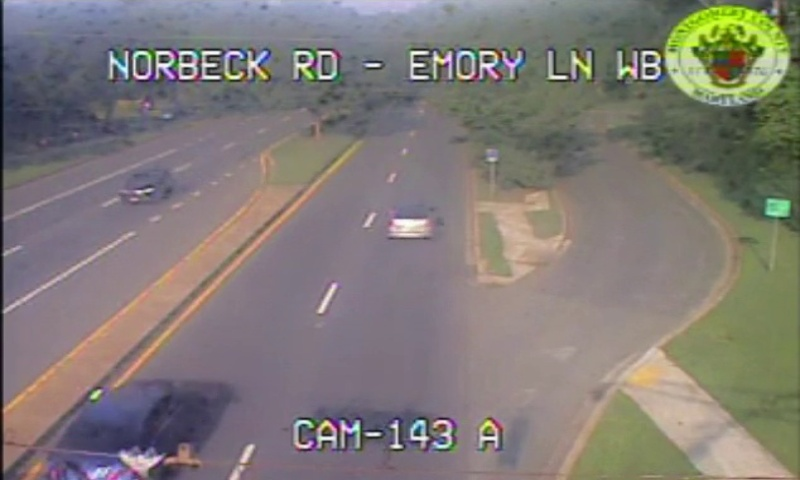car: (42, 380, 205, 480), (389, 206, 435, 236)
